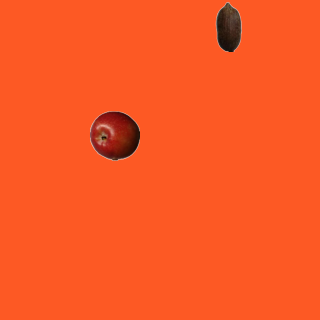Apple Braeburn: (89, 110, 139, 160)
Nut Pecan: (203, 1, 253, 51)
